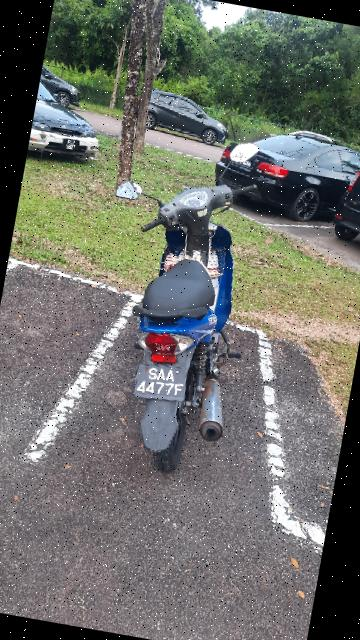License_Plate: (118, 350, 195, 410)
car: (198, 105, 360, 241), (25, 64, 119, 187), (122, 85, 235, 149), (332, 150, 360, 243)
motorcycle: (57, 134, 273, 485)
